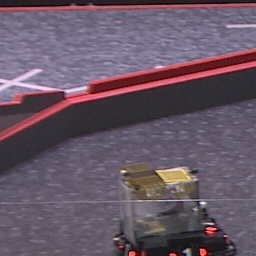Red: (196, 216, 219, 232), (168, 248, 207, 256)
Robot: (104, 162, 244, 256)
